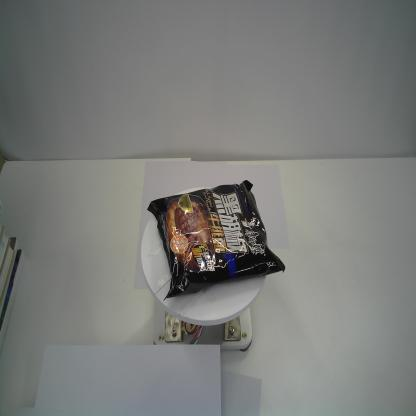Instant Noodles: (146, 178, 286, 302)
